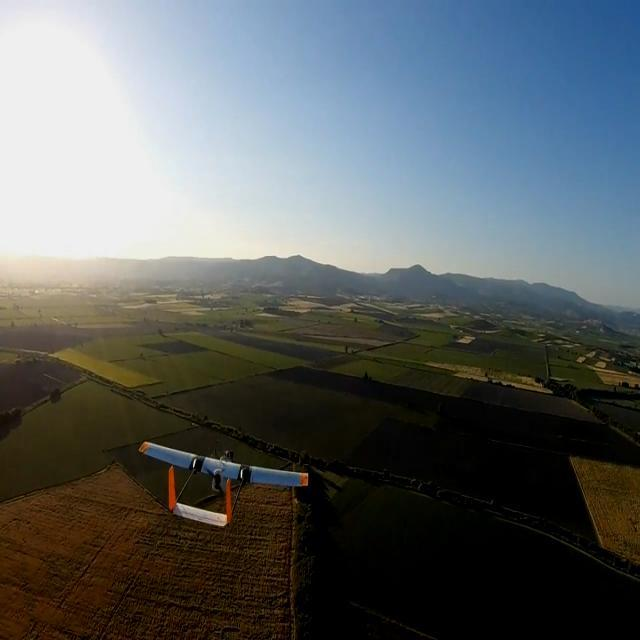iha: (134, 466, 315, 499)
